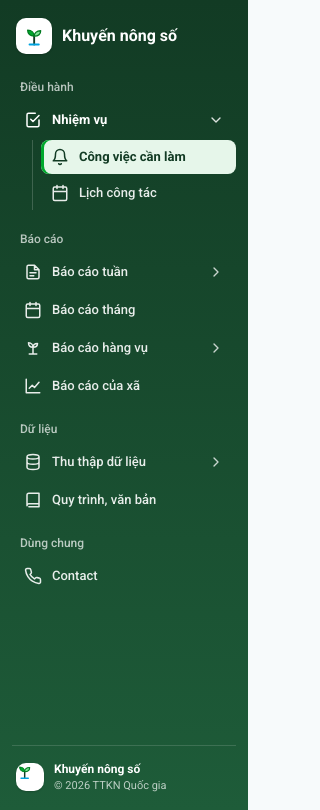
Scenario: <Sidebar> (Design Sample) › mở/đóng mục cha bằng mũi tên
Click the button "Thu thập dữ liệu": (124, 462) [12,444,236,480]
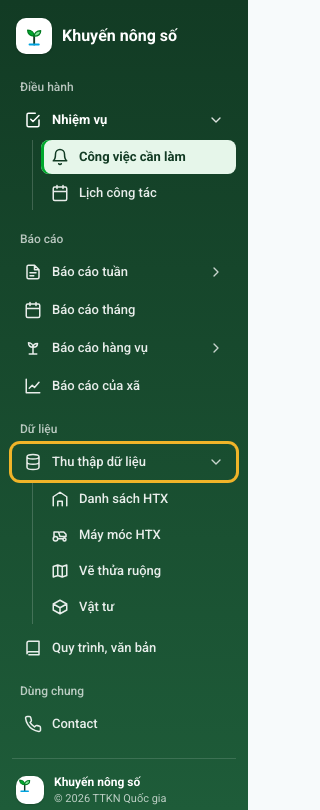
Now the button "Thu thập dữ liệu" is expanded
Now the link "Máy móc HTX" is shown, box [51,526,161,544]
Click the button "Thu thập dữ liệu": (124, 462) [12,444,236,480]
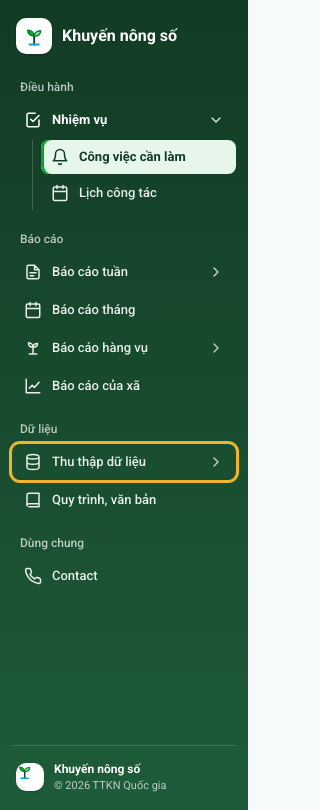
Now the button "Thu thập dữ liệu" is collapsed, box [12,444,236,480]
